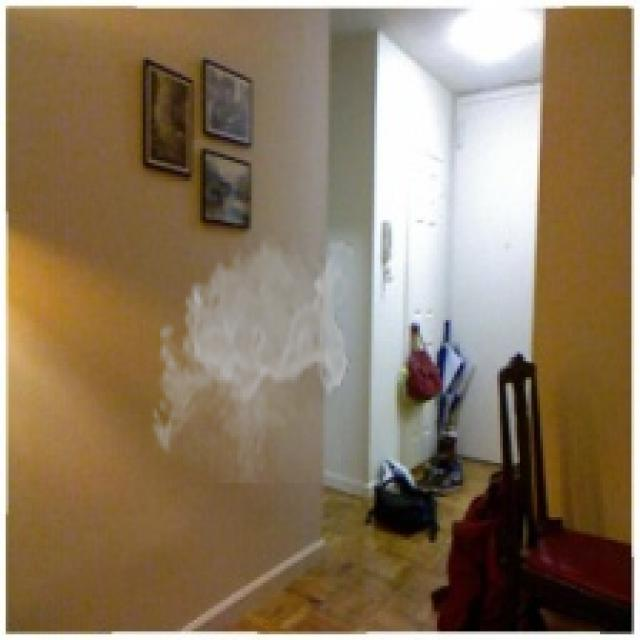smoke: (146, 231, 354, 483)
